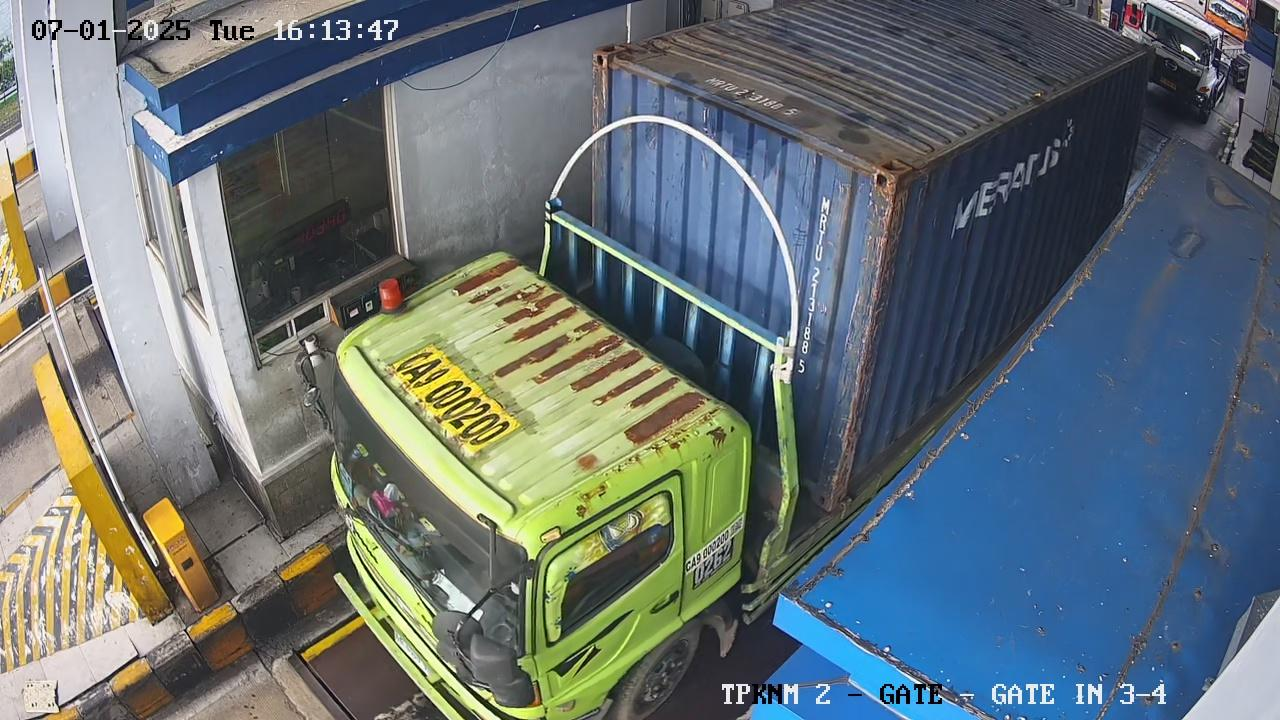Container_ID: (691, 71, 814, 125)
Container_ID_Vertikal: (785, 195, 844, 381)
truck_id: (388, 339, 526, 457), (677, 518, 745, 582)
